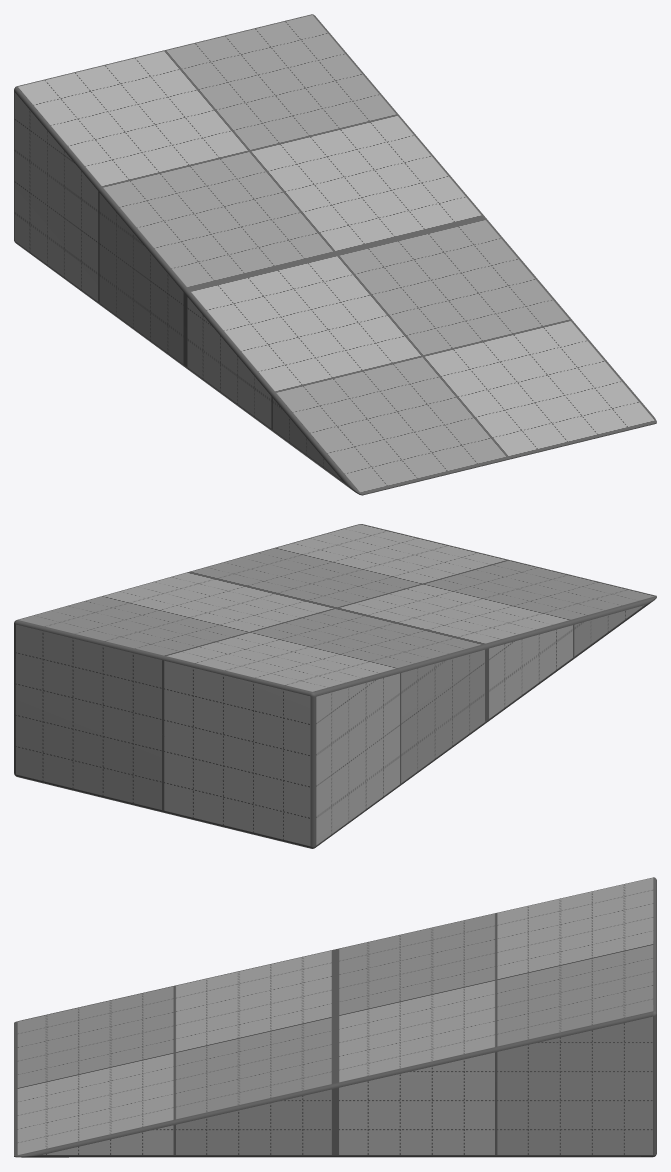
File: Ramp1x1_2x2.fbx
3 renders of one model, top to bottom at view 1: azimuth 30°, elevation 25°; view 2: azimuth 150°, elevation 25°; view 3: azimuth 270°, elevation 25°, orthographic. The views are drawn at different scales.
Parts seen in each view (by area): view 1: Ramp1x1_2x2; view 2: Ramp1x1_2x2; view 3: Ramp1x1_2x2.
Boxes of the visible parts, x1=… form: Ramp1x1_2x2: x1=14, y1=14, x2=656, y2=495; Ramp1x1_2x2: x1=14, y1=524, x2=656, y2=848; Ramp1x1_2x2: x1=14, y1=877, x2=656, y2=1157.
Size of the model in its own units: 100 by 49.71 by 199.
